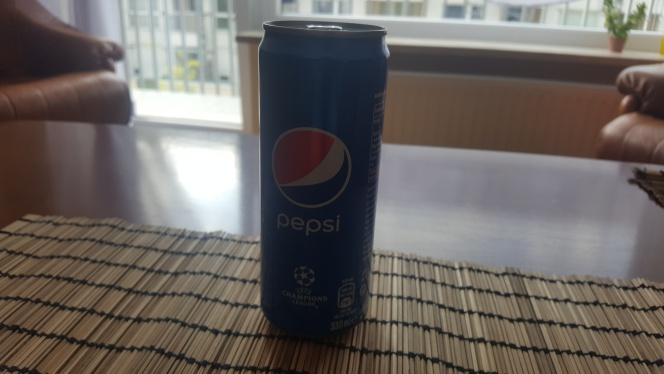pepsi: (249, 11, 390, 347)
